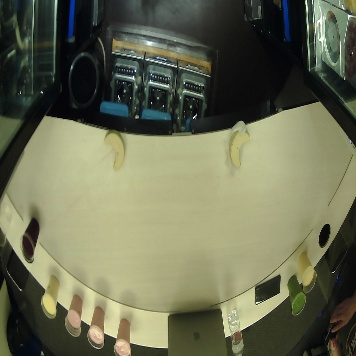full_cup: (296, 250, 327, 295), (18, 216, 44, 266), (283, 273, 308, 317), (111, 312, 136, 356), (84, 305, 109, 349), (61, 294, 86, 338), (37, 275, 62, 319)
puck: (103, 123, 133, 174), (223, 120, 253, 171)
